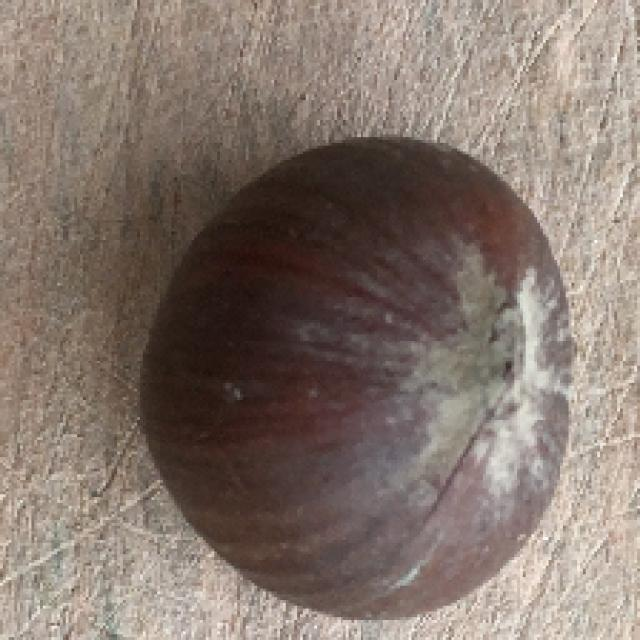damagedHazelnut: (134, 132, 581, 614)
